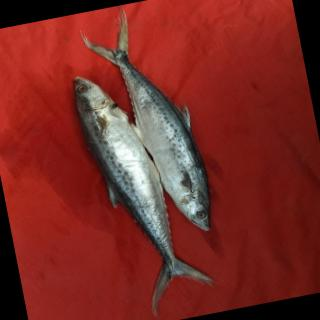Ikan: (44, 1, 235, 320)
